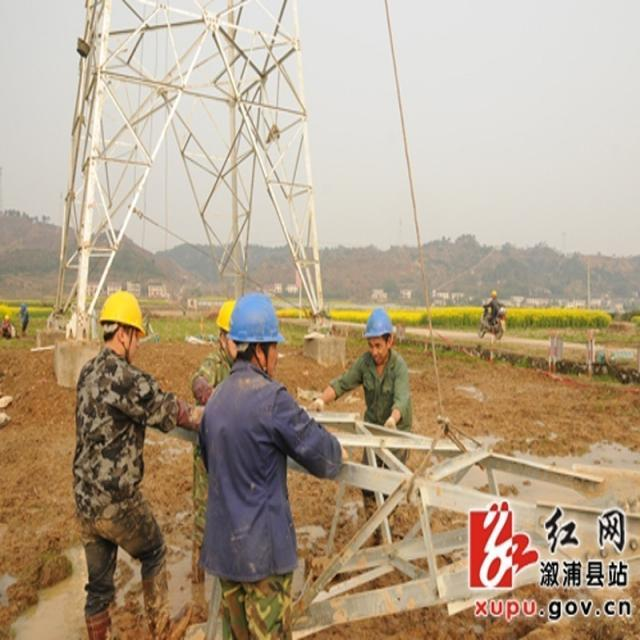non-critical vegetation: (60, 1, 332, 289)
